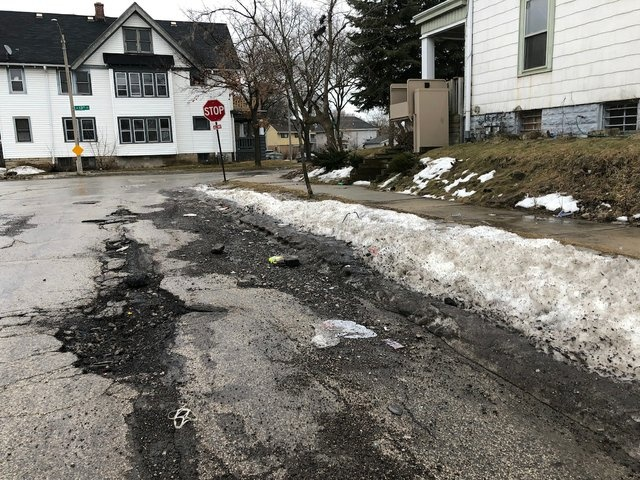pothole: (59, 269, 269, 381)
